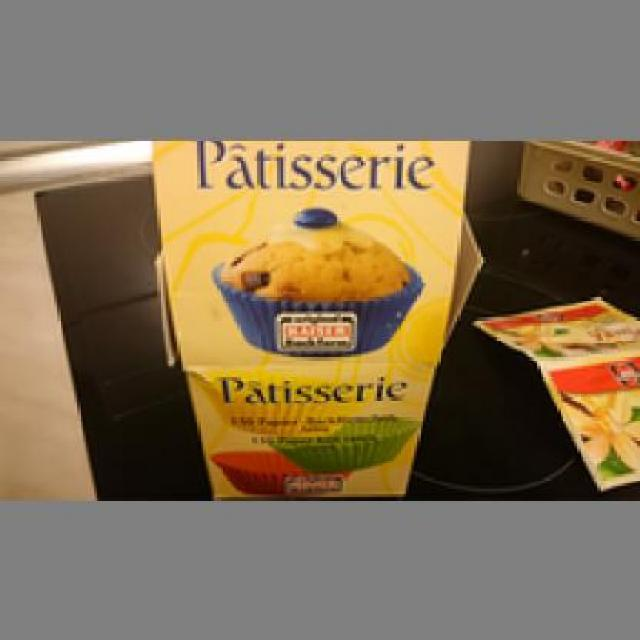Cake: (145, 137, 478, 494)
